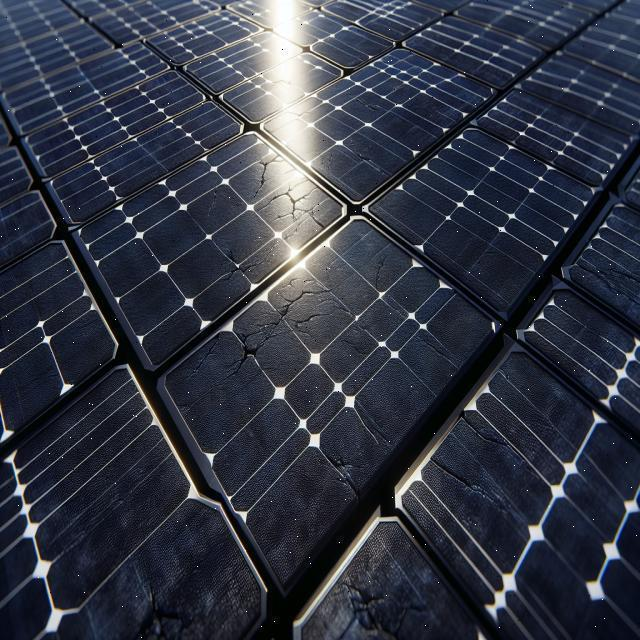Anomaly Solar Panel: (109, 181, 498, 585), (56, 91, 344, 365), (362, 89, 594, 315), (261, 0, 494, 219), (221, 39, 342, 127)
Structural Damage: (201, 302, 287, 384), (332, 577, 414, 640), (252, 177, 325, 240), (126, 582, 202, 640), (426, 452, 501, 508), (212, 226, 286, 281), (271, 267, 340, 319), (309, 439, 370, 493), (581, 254, 640, 308), (240, 146, 285, 199), (180, 329, 223, 384), (454, 409, 507, 453), (317, 293, 356, 316), (289, 305, 330, 326), (282, 215, 307, 241), (278, 273, 316, 289), (373, 255, 384, 290), (242, 324, 265, 339), (206, 188, 217, 217), (285, 108, 307, 117), (324, 151, 333, 170), (271, 78, 290, 83)
